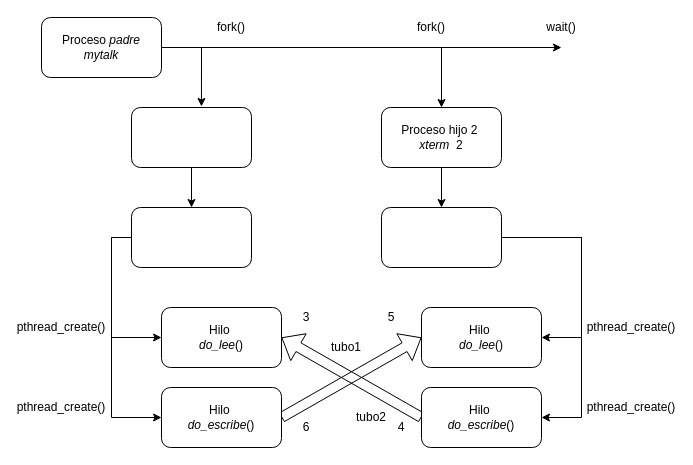
This 693x465 diagram has some shape labels left out. The centre of each missing label's shape, as x and y in pixels:
Proceso hijo 1 xterm 1: the point at 191,137
Proceso talkp 1: the point at 191,237
Proceso talkp 2: the point at 441,237
